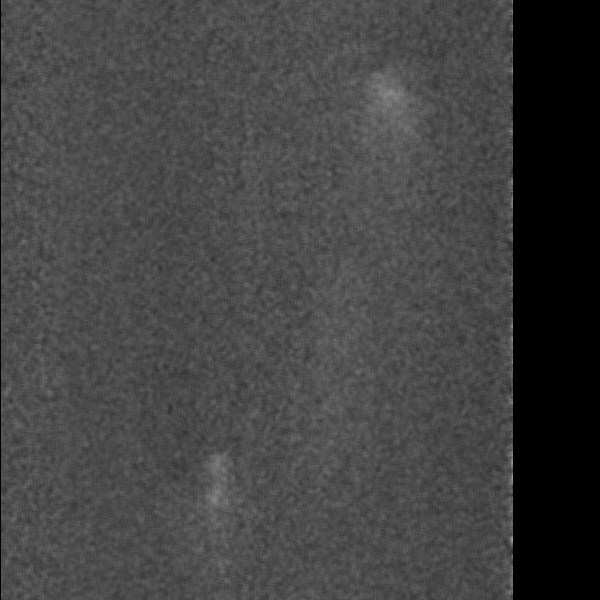spark: (359, 66, 417, 182), (202, 482, 221, 519), (200, 453, 230, 474)
